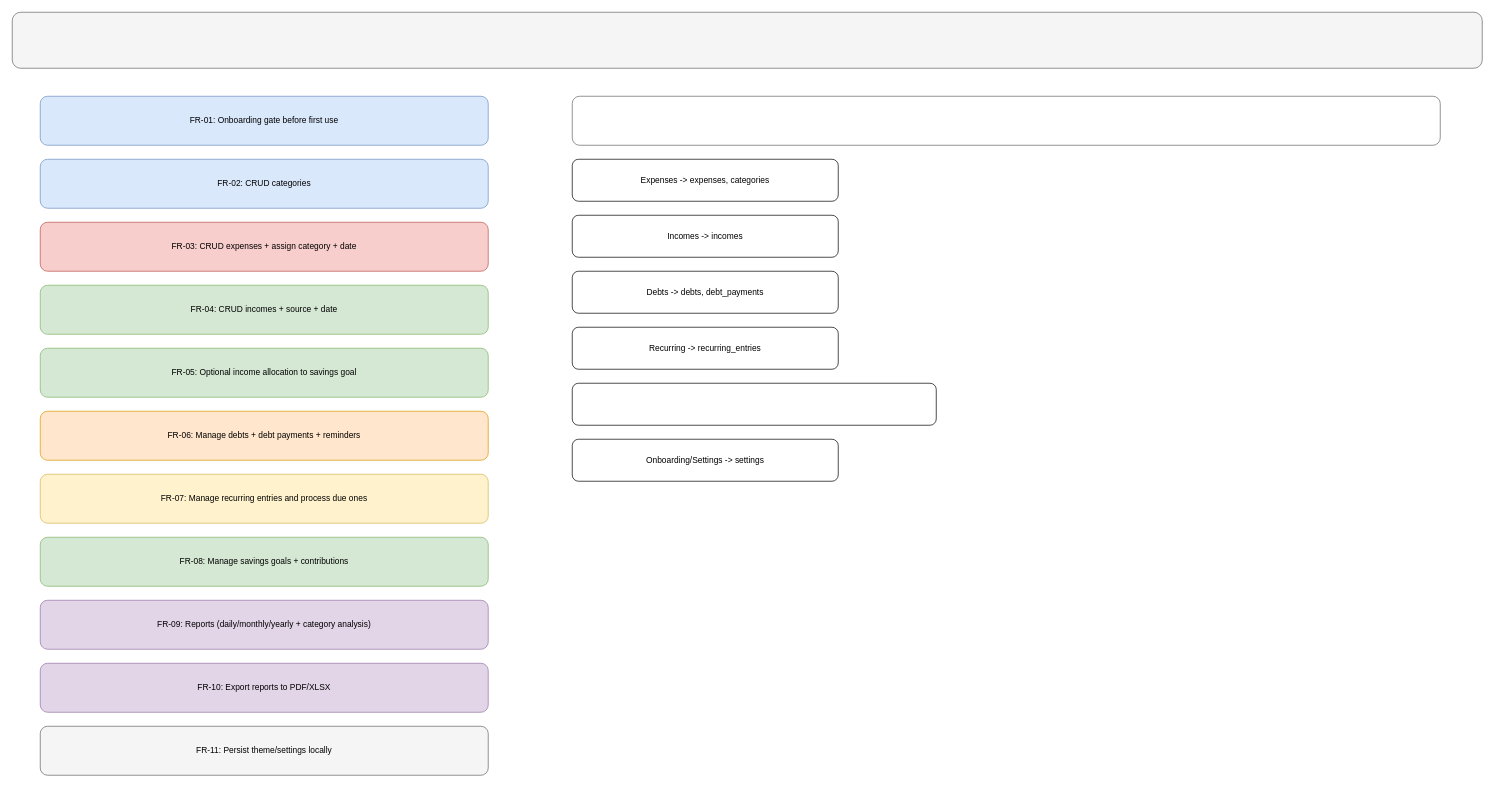
The diagram is 1495 pixels wide and 788 high, and some of its shapes have lost their labels. Here are the shapes that lost their labels. From the top down, the centre of each, then its label:
At point 747,40: "Functional Requirements (FR)".
At point 1006,120: "Traceability (Feature -> Main data tables)".
At point 754,404: "Savings -> savings_goals, savings_goal_contributions".
